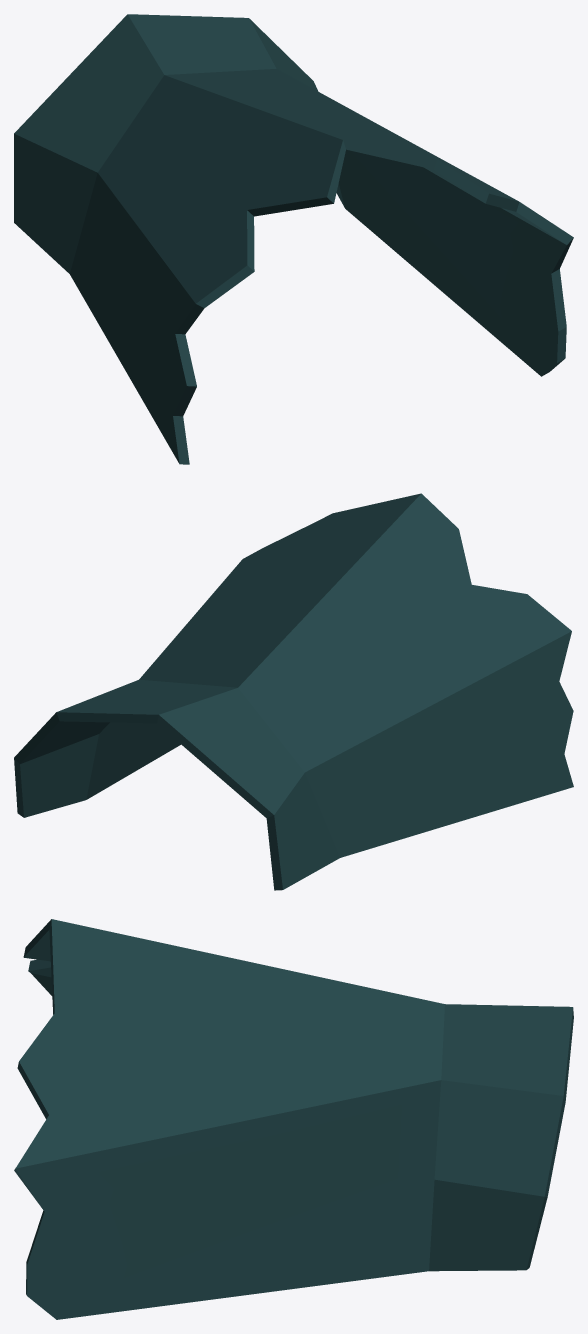
The picture shows the model from 3 angles, top to bottom: view 1: azimuth 30°, elevation 25°; view 2: azimuth 150°, elevation 25°; view 3: azimuth 270°, elevation 25°; orthographic projection. The views are drawn at different scales.
Visible parts, largest first — view 1: 衣服.001; view 2: 衣服.001; view 3: 衣服.001.
Boxes of the visible parts, <box> form: 衣服.001: <box>14,14,573,464</box>; 衣服.001: <box>14,493,573,890</box>; 衣服.001: <box>14,919,573,1319</box>.
Bounding box in the file's own units: 40.64 × 29.43 × 50.21.
